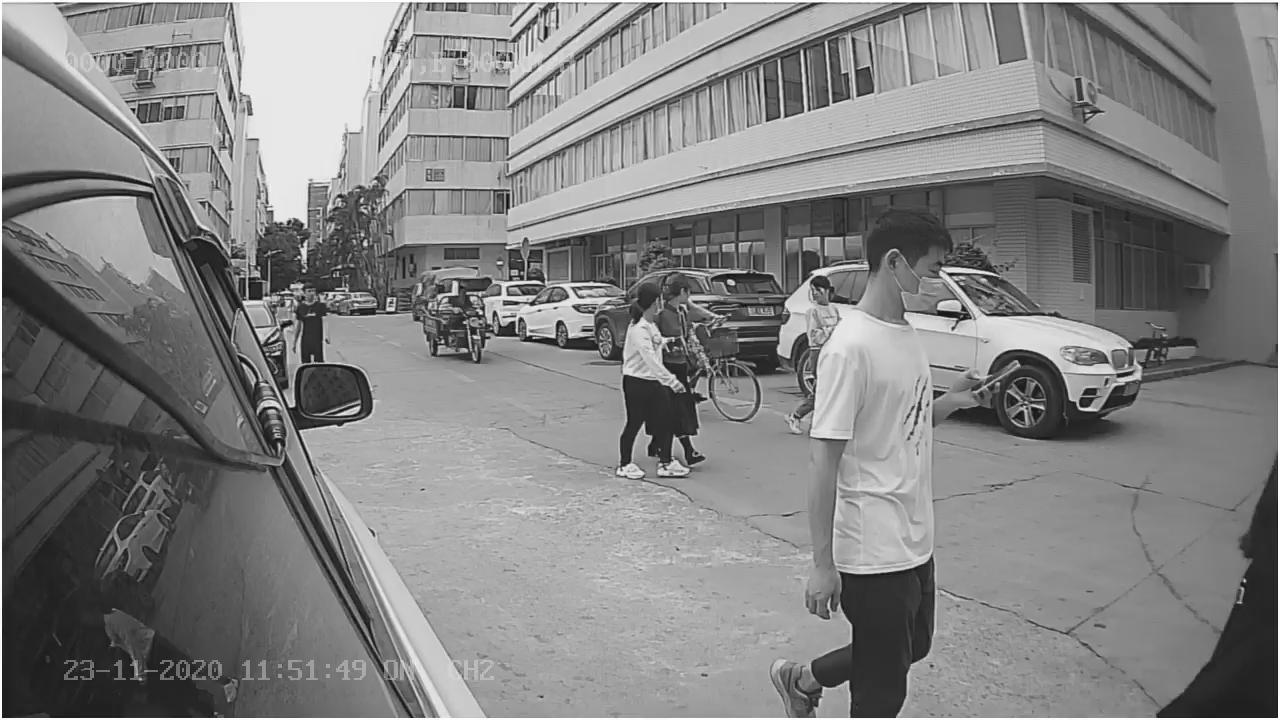person: (605, 280, 699, 487)
